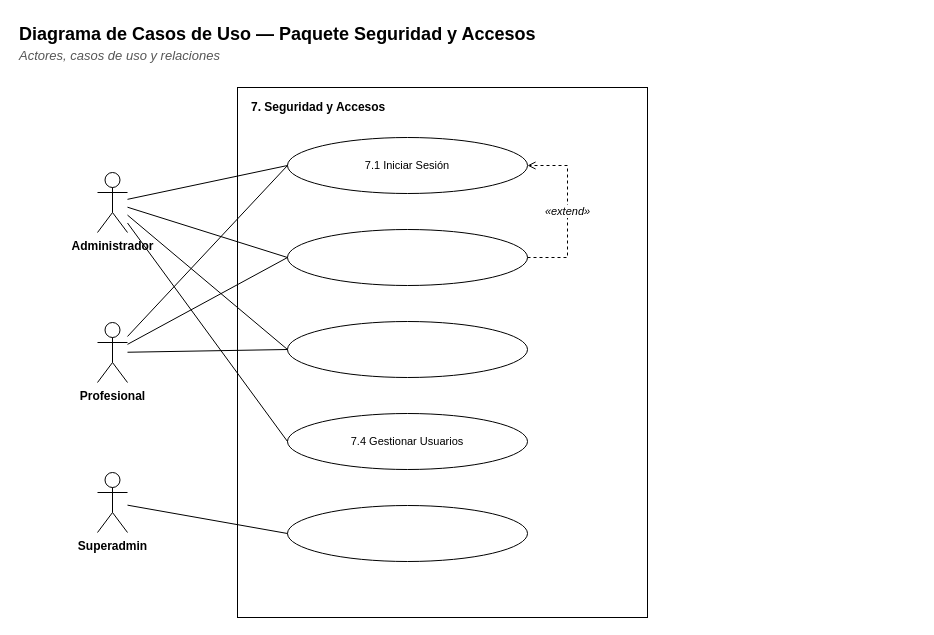
The diagram is 934 pixels wide and 635 high, and some of its shapes have lost their labels. The centre of each missing label's shape, as x and y in pixels:
7.2 Cerrar Sesión: (407,349)
7.3 Cambiar Contraseña: (407,257)
7.5 Consultar Auditoría: (407,533)
